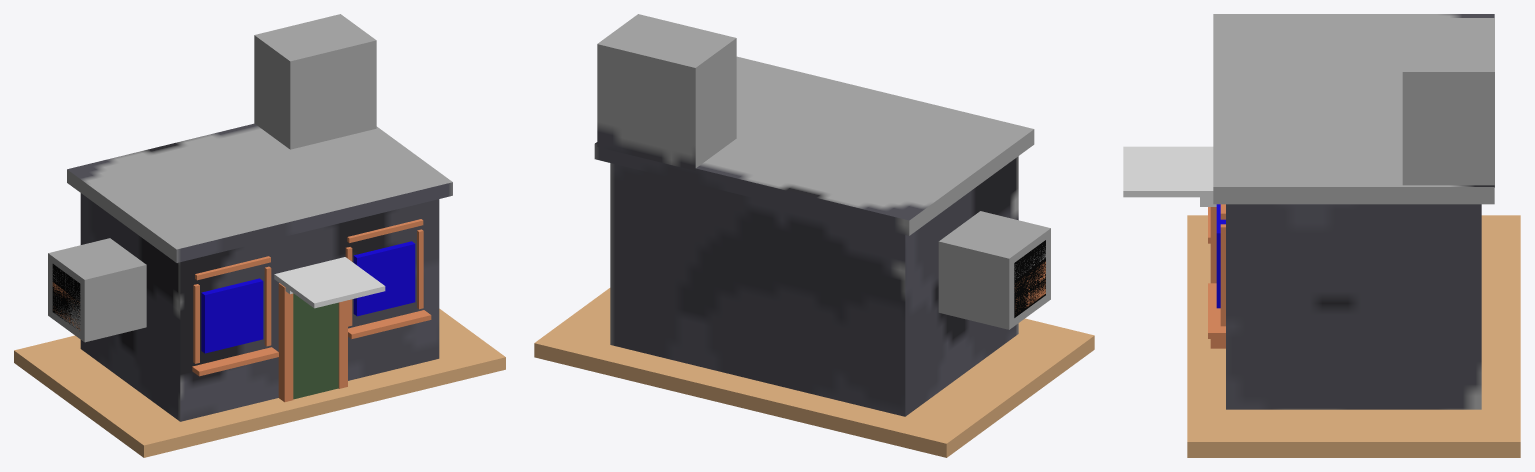
The model's file is elpunto_test.glb.
3 renders of one model, left to right at view 1: azimuth 30°, elevation 25°; view 2: azimuth 150°, elevation 25°; view 3: azimuth 270°, elevation 25°, orthographic. The views are drawn at different scales.
Parts seen in each view (by area): view 1: Roof_1, Building_01, Foundation, Cube.004, Cube.005, Door_1, Window_L, Cube.003, Window_L.001, Cube.001, Cube.006, Bottom_Still (+7 smaller); view 2: Building_01, Roof_1, Foundation, Cube.004, Cube.005, Cube.006; view 3: Building_01, Roof_1, Foundation, Cube.004, Cube.003, Cube, Bottom_Still.001, R_Frame.001, Window_L.001.
Part boxes in pixels (x1,y1,x2,y2): Roof_1: [67, 123, 452, 262]; Building_01: [80, 193, 439, 421]; Foundation: [14, 308, 505, 457]; Cube.004: [254, 14, 376, 149]; Cube.005: [48, 238, 146, 342]; Door_1: [293, 293, 338, 399]; Window_L: [201, 278, 263, 353]; Cube.003: [274, 257, 385, 308]; Window_L.001: [353, 241, 415, 316]; Cube.001: [278, 283, 293, 402]; Cube.006: [52, 264, 80, 328]; Bottom_Still: [192, 347, 278, 376]; Building_01: [610, 156, 1018, 416]; Roof_1: [594, 56, 1034, 235]; Foundation: [534, 288, 1094, 457]; Cube.004: [597, 14, 736, 170]; Cube.005: [938, 211, 1050, 329]; Cube.006: [1014, 240, 1045, 317]; Building_01: [1226, 204, 1481, 409]; Roof_1: [1213, 14, 1494, 204]; Foundation: [1187, 215, 1520, 457]; Cube.004: [1402, 18, 1494, 187]; Cube.003: [1123, 146, 1213, 197]; Cube: [1210, 207, 1225, 348]; Bottom_Still.001: [1208, 283, 1225, 338]; R_Frame.001: [1220, 224, 1225, 326]; Window_L.001: [1216, 204, 1225, 308].
Size of the model in its own units: 8.63 by 6.17 by 6.21.
6 materials, 1 textured.
